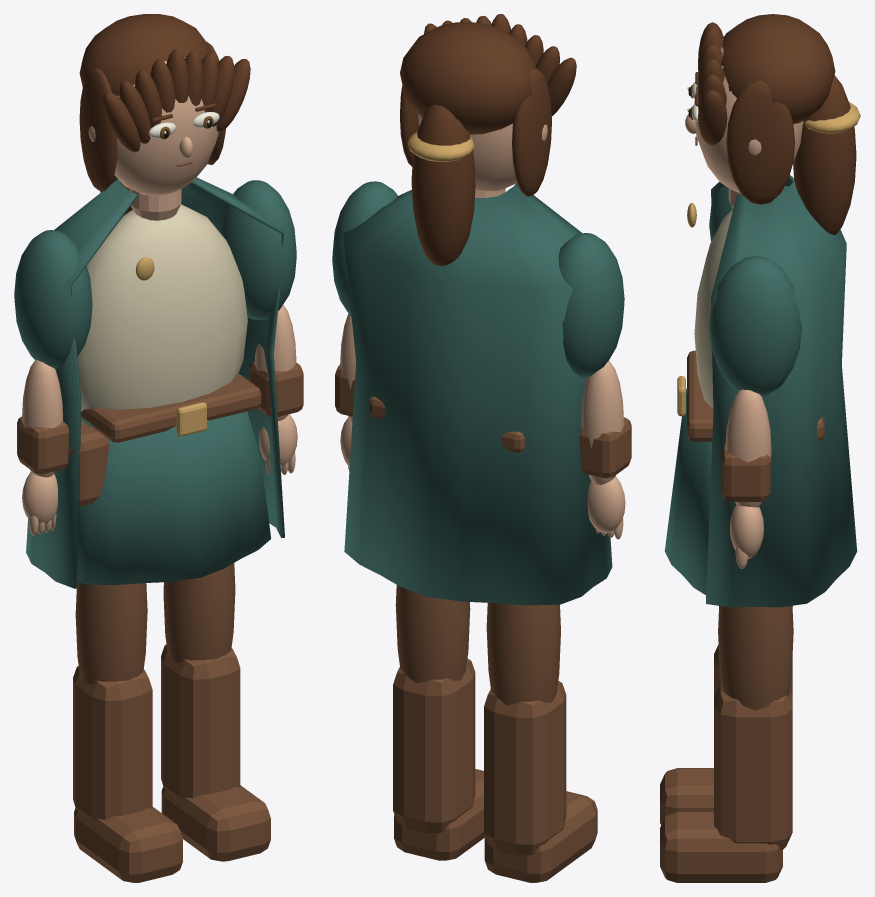
The model's file is mira_guide.glb.
The picture shows the model from 3 angles, left to right: view 1: azimuth 30°, elevation 25°; view 2: azimuth 150°, elevation 25°; view 3: azimuth 270°, elevation 25°; orthographic projection. The views are drawn at different scales.
Visible parts, largest first — view 1: mira torso; view 2: mira torso; view 3: mira torso.
Part boxes in pixels (<box>): mira torso: <box>14,14,303,882</box>; mira torso: <box>332,14,631,882</box>; mira torso: <box>660,14,860,882</box>.
Size of the model in its own units: 0.6524 by 1.87 by 0.409.
